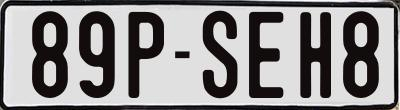8: (32, 10, 71, 97), (340, 8, 376, 95)
9: (76, 10, 116, 97)
E: (249, 12, 283, 99)
H: (300, 12, 337, 99)
P: (126, 12, 162, 104)
S: (203, 9, 237, 99)
